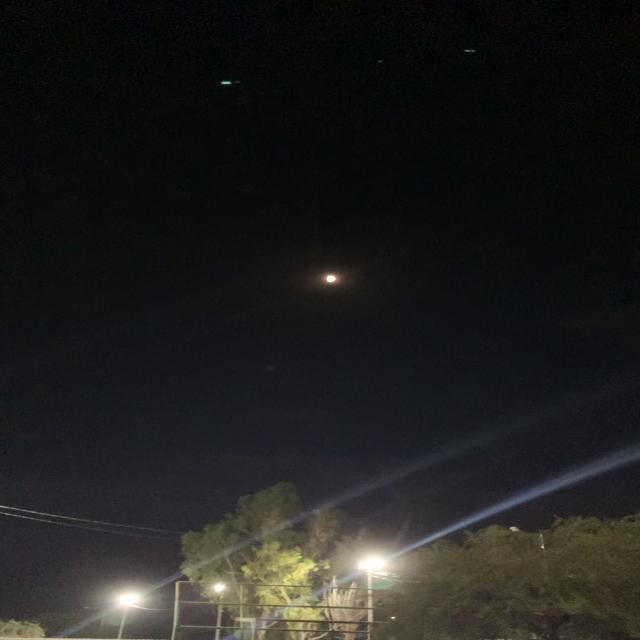moon: (309, 265, 356, 295)
